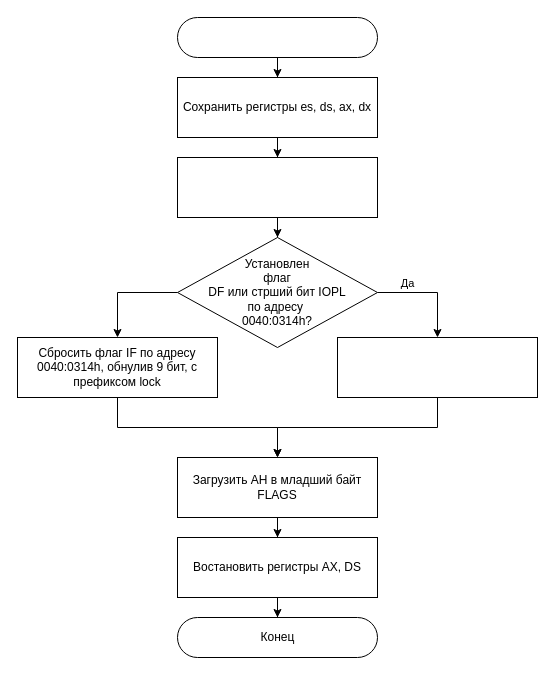
This 555x675 diagram has some shape labels left out. Each missing label, with the centre of its shape:
"Запрет прирывание командой cli" goes at [437,367].
"Начало" goes at [277,37].
"Установить сегментный регистр ds = 40h" goes at [277,187].
